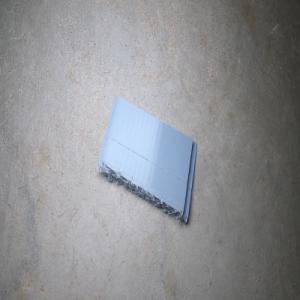PlasticPart: (95, 96, 197, 224)
